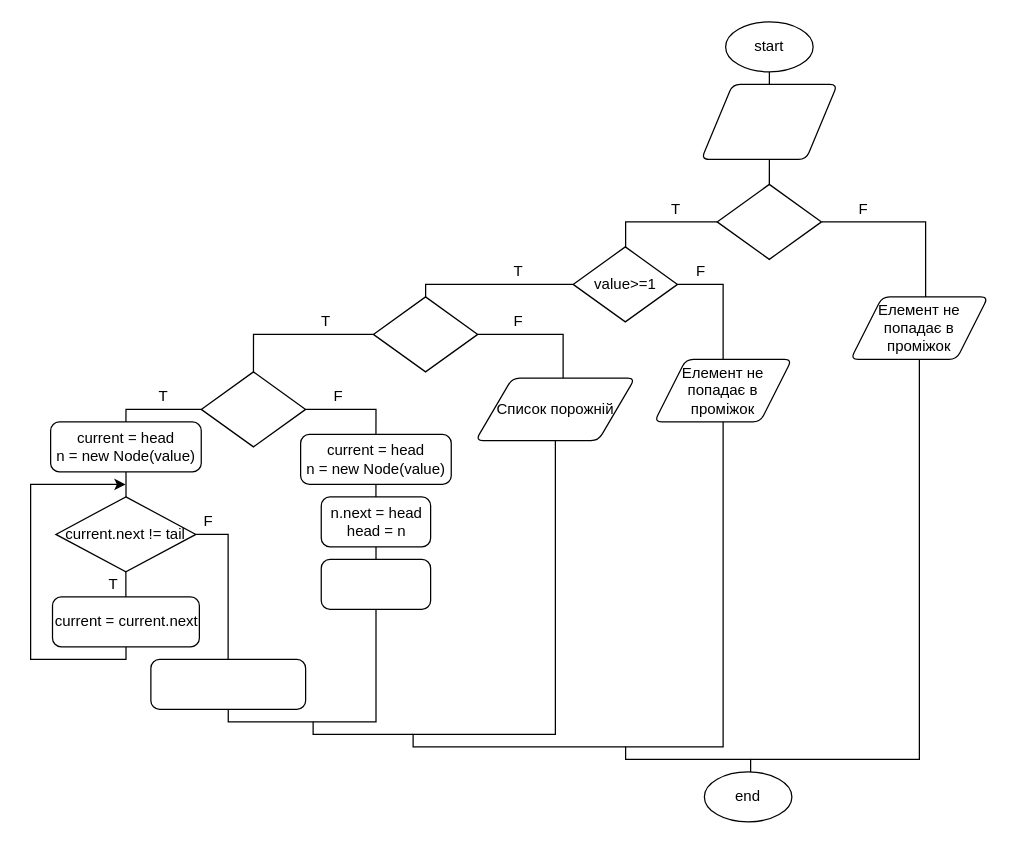
This 1010x844 diagram has some shape labels left out. Here are the shapes that lost their labels. From the top down, the centre of each, then its label:
At point (768, 121): "value є R Node tail Node head".
At point (769, 221): "value<=50".
At point (425, 334): "head != null".
At point (253, 409): "head!=tail".
At point (375, 583): "tail = n.next".
At point (228, 683): "n.next = current.next current.next = n".
